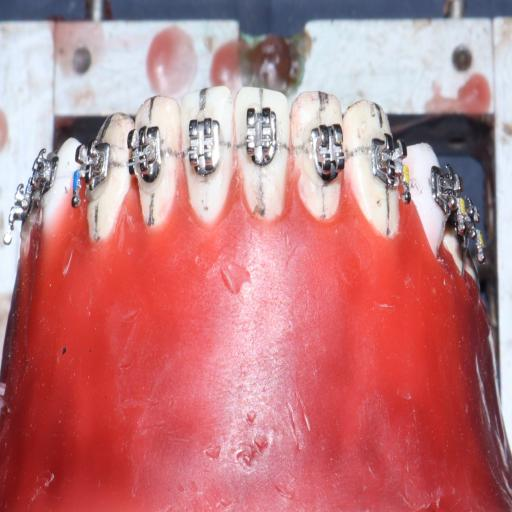correct_brace: (186, 116, 223, 179)
incorrect_brace: (240, 101, 283, 176)
